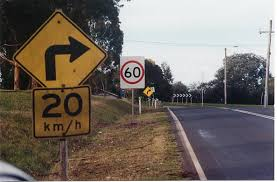Speed_limit_60km: (118, 61, 145, 84)
